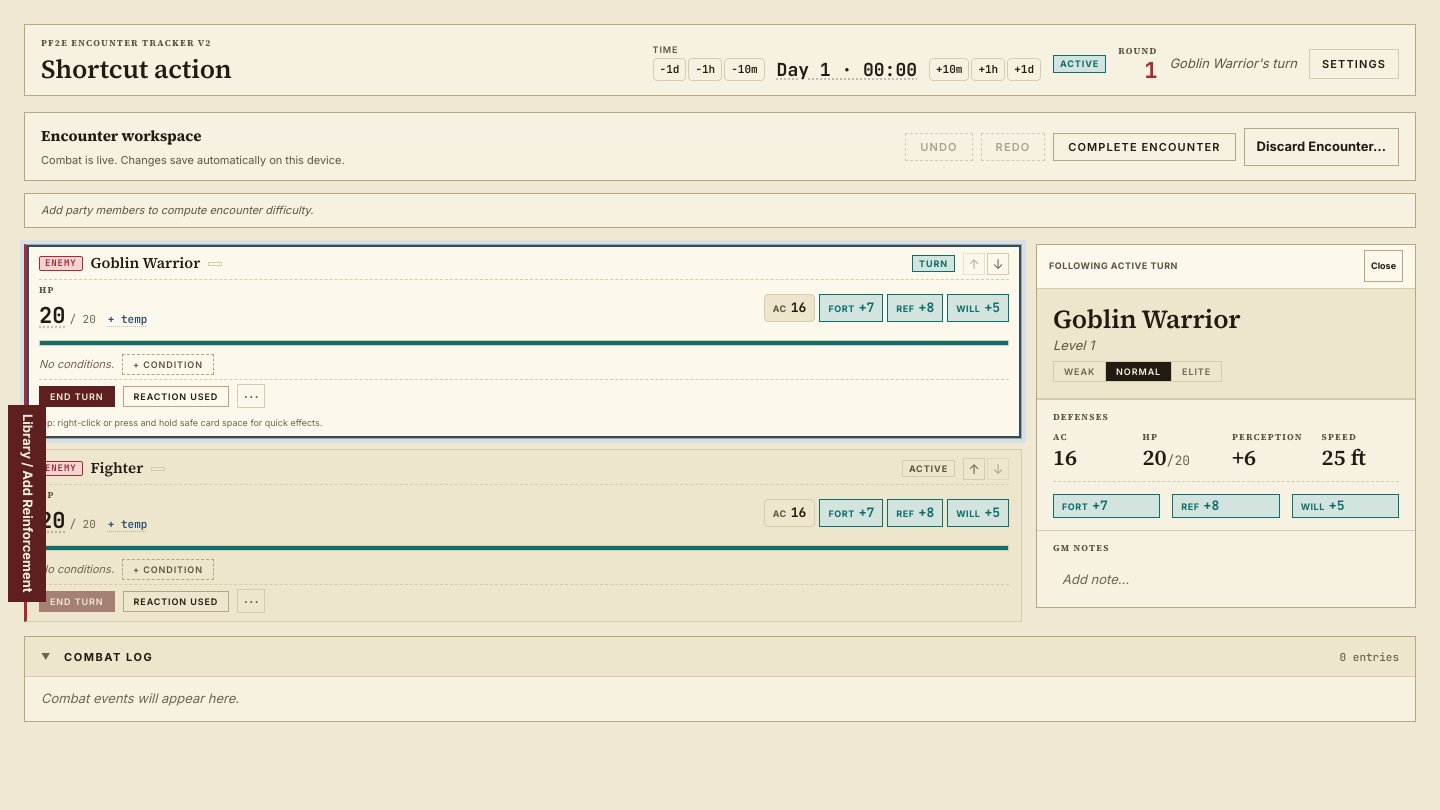
encounter history shortcuts › Ctrl+Z and Ctrl+Shift+Z undo and redo accepted encounter commands
The image size is (1440, 810).
Expected: the heading "Shortcut action" is shown, [41,54,232,83]
Step 1. Click the 1st button "Reaction Used" → (176, 396), box [122,386,229,407]
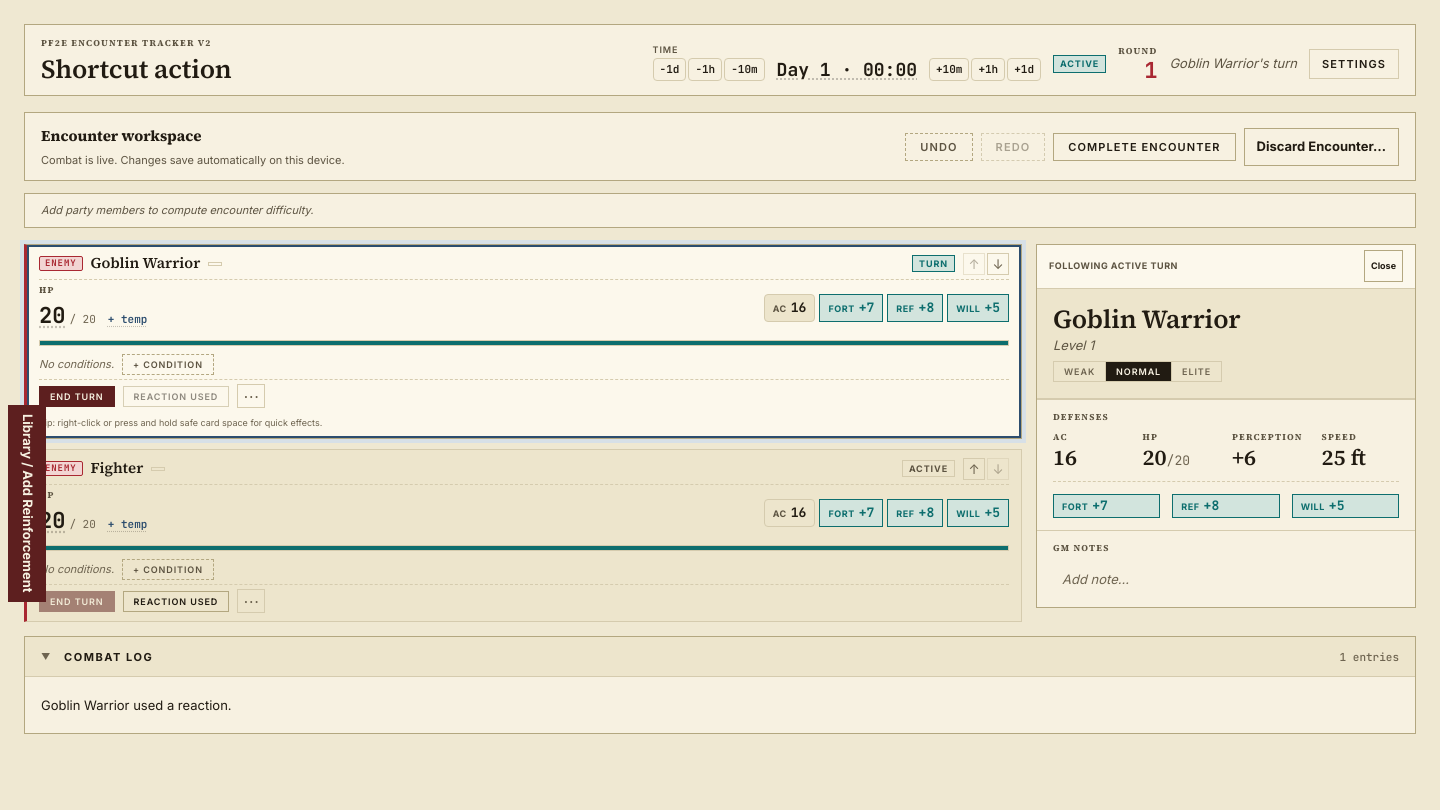
Now the button "Undo" is enabled, box [905,133,973,161]
Step 2. Press z
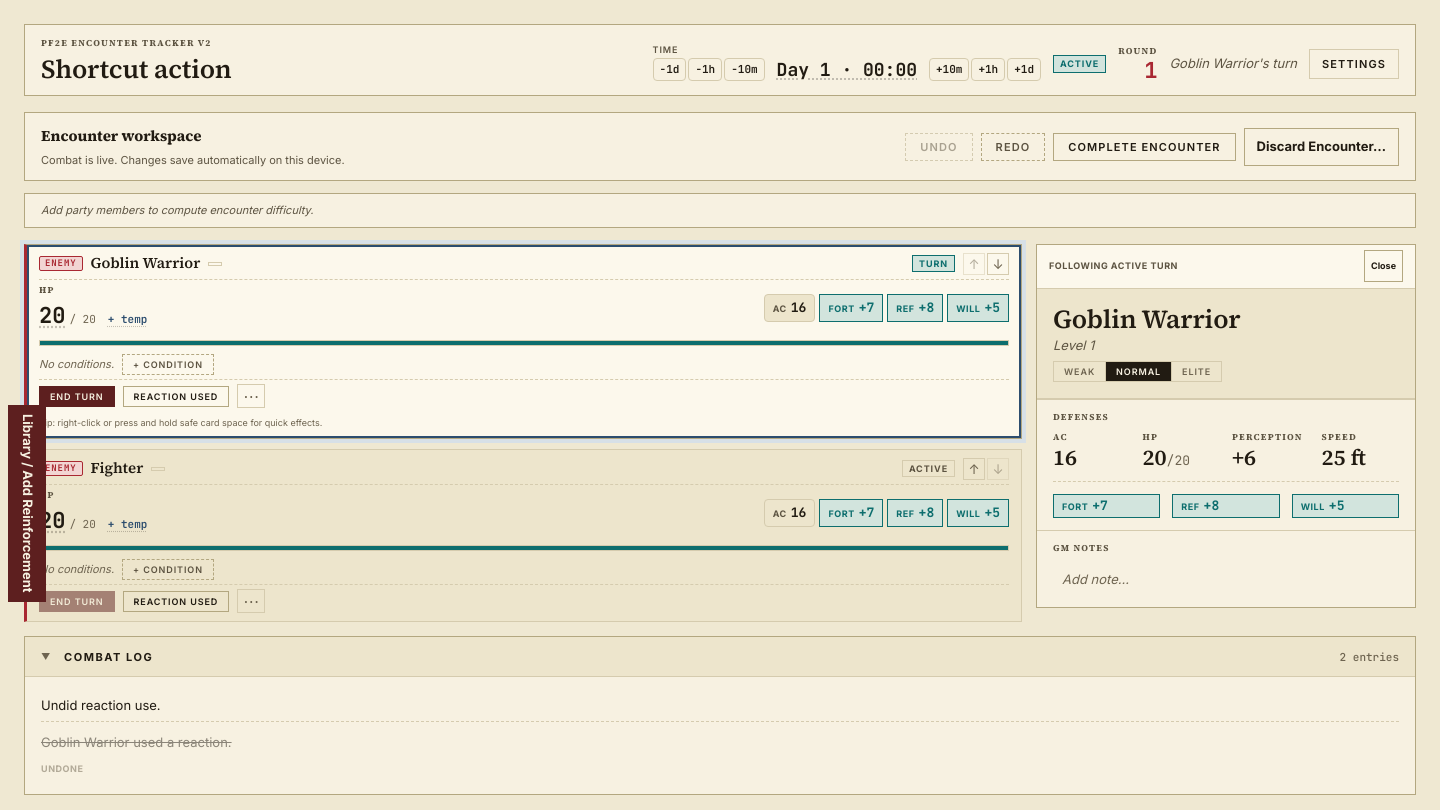
Now the button "Redo" is enabled, box [981,133,1045,161]
Step 3. Press z
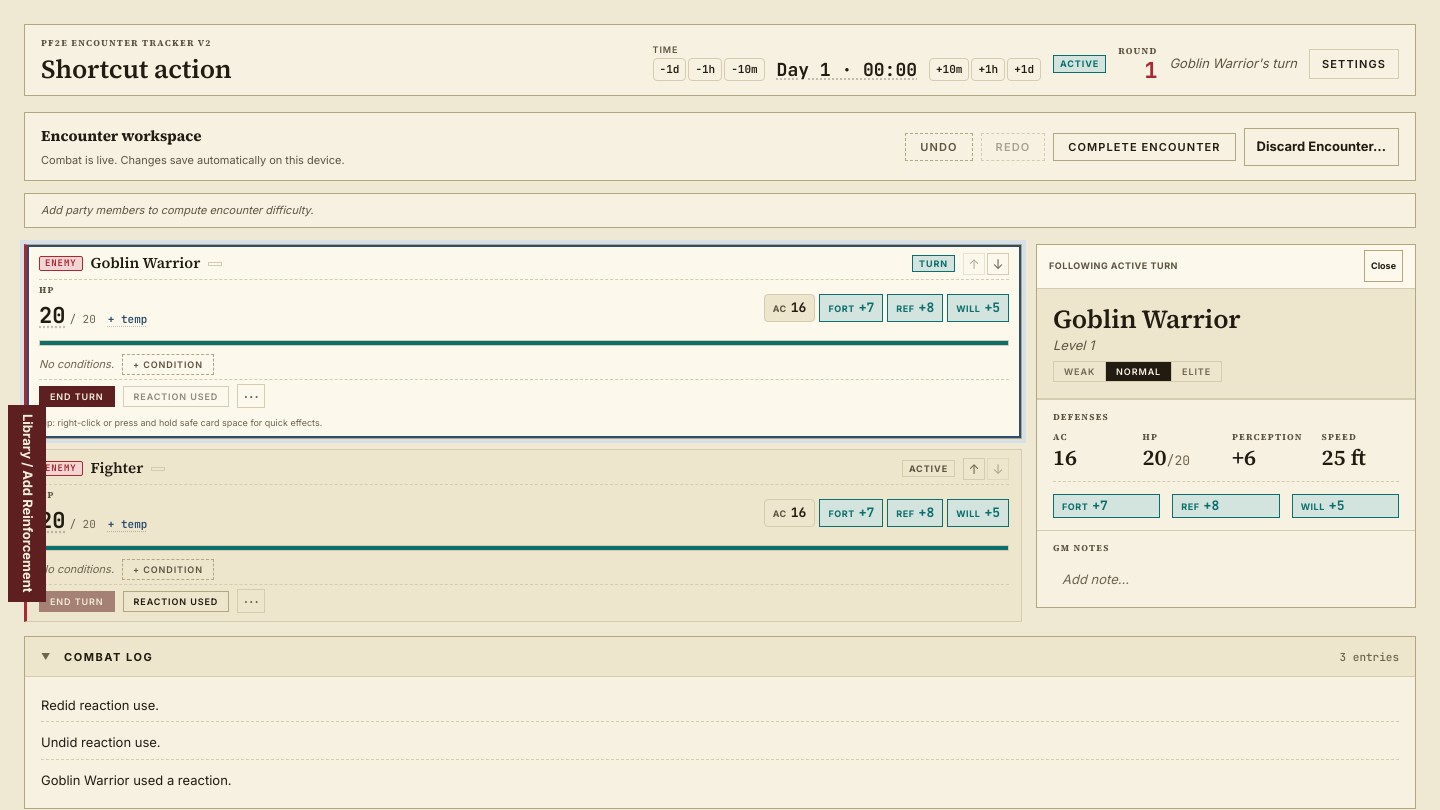
Now the button "Undo" is enabled, box [905,133,973,161]
